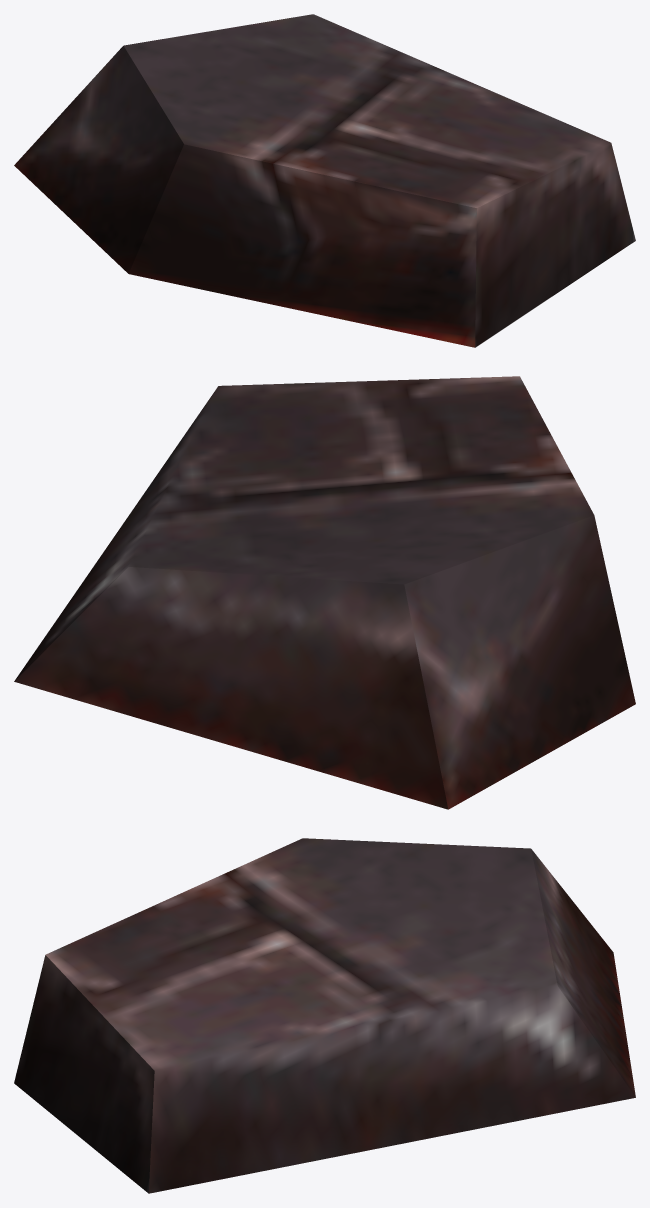
Rendered from hs_shitou_1.FBX.
3 views of the same model, one above another, from view 1: azimuth 30°, elevation 25°; view 2: azimuth 150°, elevation 25°; view 3: azimuth 270°, elevation 25° (orthographic). The views are drawn at different scales.
Parts seen in each view (by area): view 1: hs_shitou_1; view 2: hs_shitou_1; view 3: hs_shitou_1.
Part boxes in pixels (box(x1,y1,x2,y2)): hs_shitou_1: box(14, 14, 635, 347); hs_shitou_1: box(14, 376, 635, 809); hs_shitou_1: box(14, 838, 635, 1193).
Size of the model in its own units: 2.42 by 0.8588 by 2.8.
